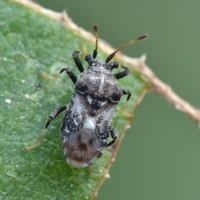insect: (24, 26, 146, 167)
